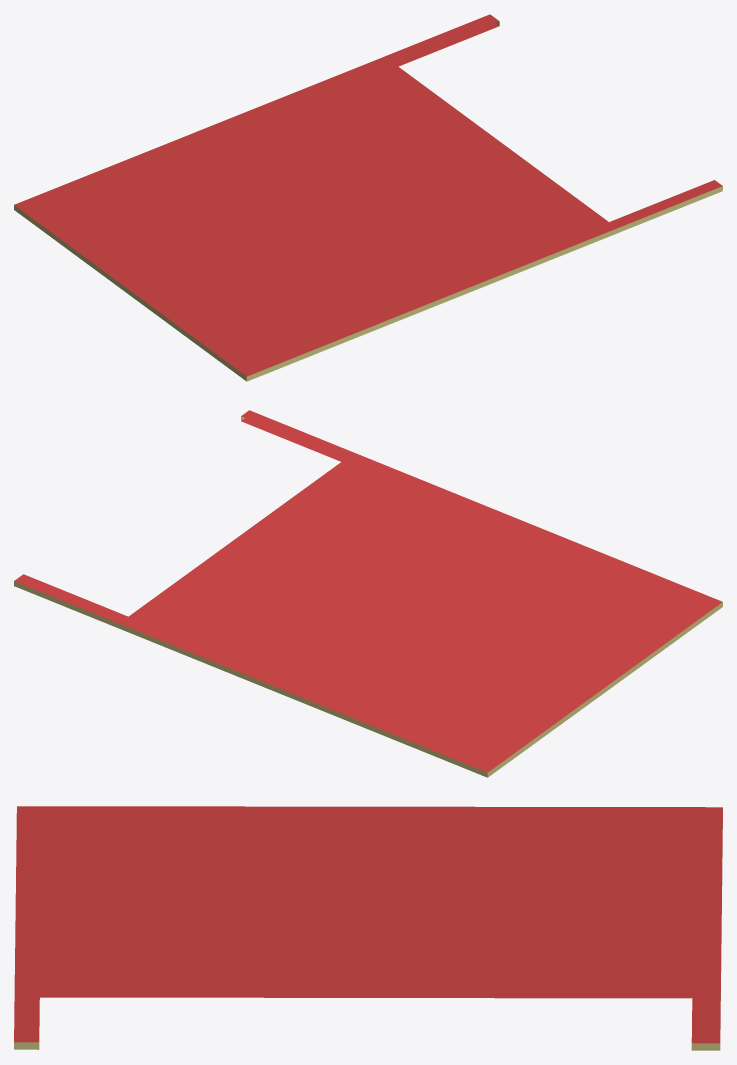
The picture shows the model from 3 angles, top to bottom: view 1: azimuth 30°, elevation 25°; view 2: azimuth 150°, elevation 25°; view 3: azimuth 270°, elevation 25°; orthographic projection. The views are drawn at different scales.
Size of the model in its own units: 9.87 by 8.44 by 1.59.
